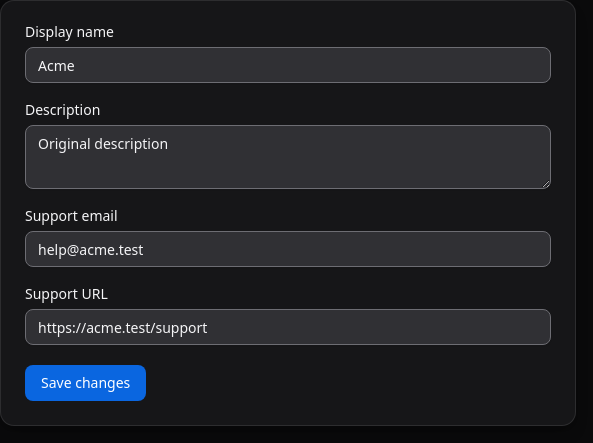
Test: OrganizationSettingsDetailPage › saves edited fields and shows a success confirmation
This screenshot has width=593, height=443.
Expected: the field showing "Acme" is shown, left=25, top=47, right=551, bottom=83
Replace the text in the text box labelled "Description" with "New description". click: (288, 157)
box: left=25, top=125, right=551, bottom=189
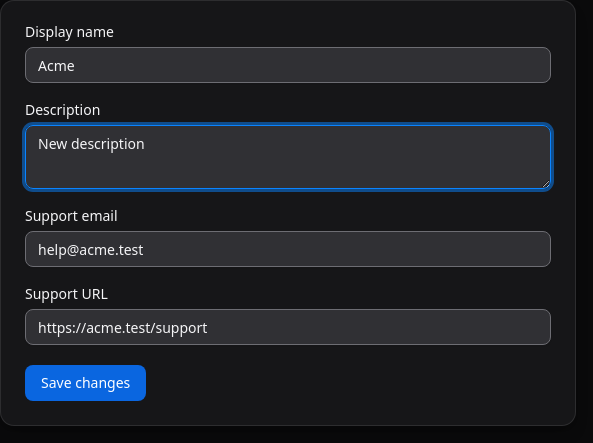
Click the button "Save changes". click: click(86, 383)
box: left=25, top=365, right=146, bottom=401
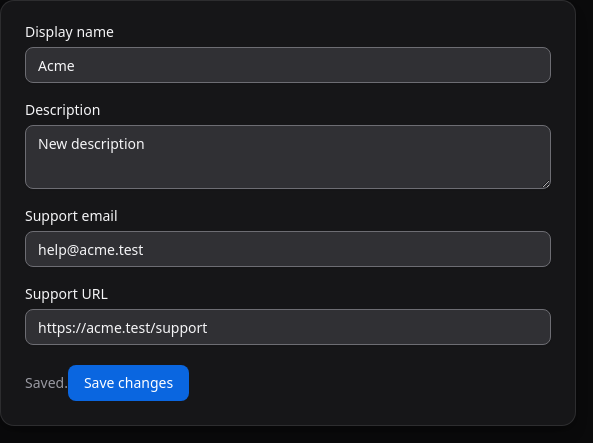
Result: the text "Saved." is shown at left=25, top=373, right=68, bottom=392
